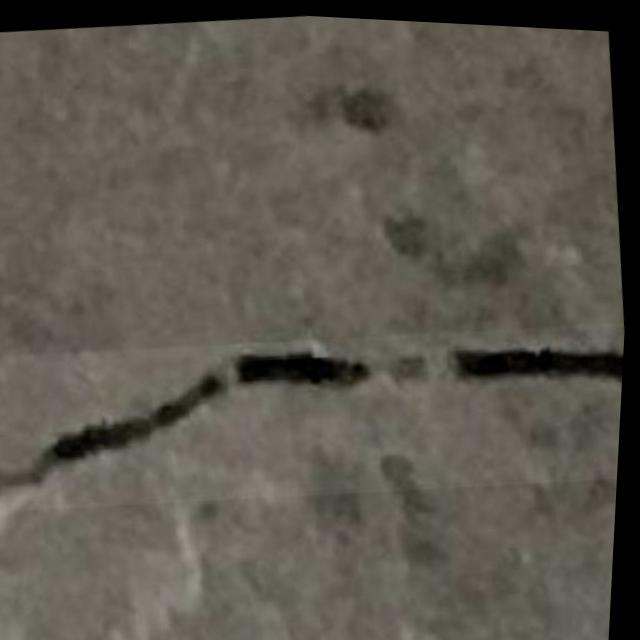Crack: (0, 232, 631, 532)
